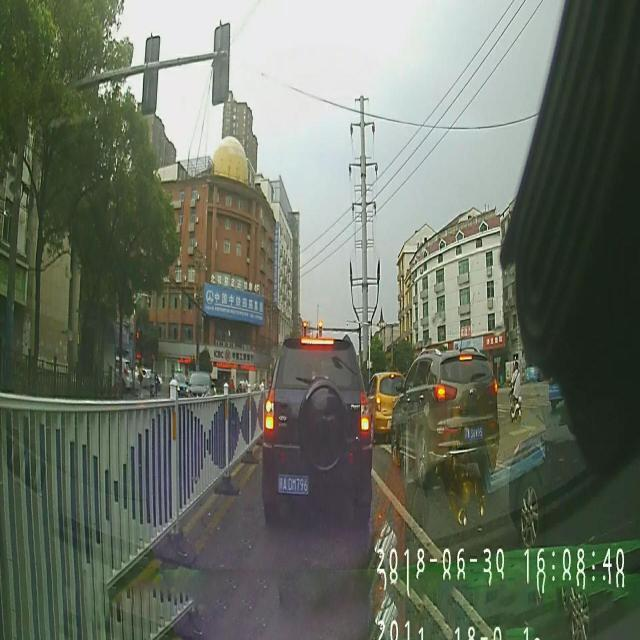car: (262, 334, 372, 520), (509, 424, 637, 539), (392, 351, 498, 481), (366, 372, 406, 439)
